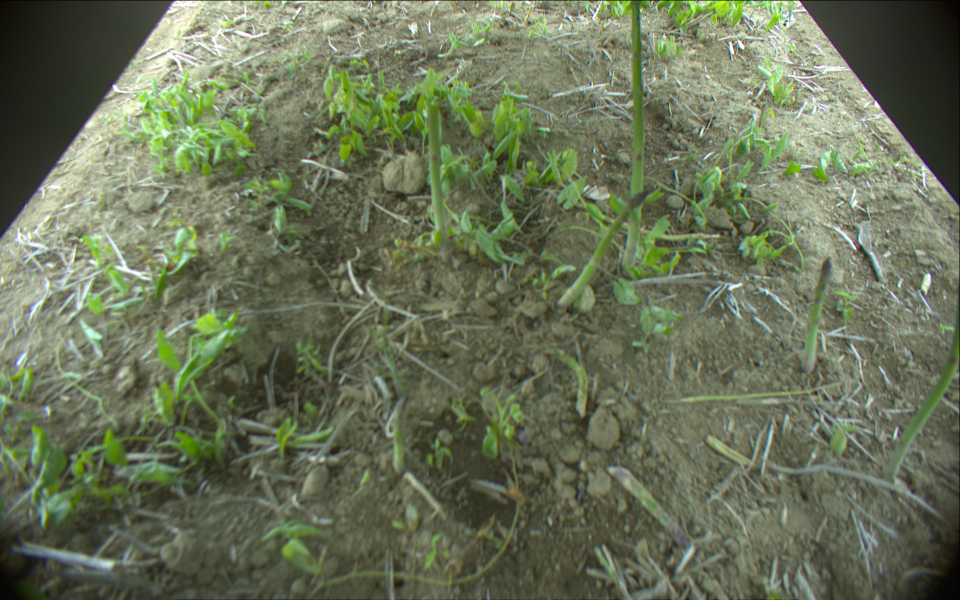aspa: (882, 284, 960, 480), (555, 183, 659, 307), (604, 467, 690, 551), (627, 1, 643, 268), (800, 258, 832, 372), (423, 97, 447, 235), (547, 346, 591, 416), (389, 397, 407, 475)
